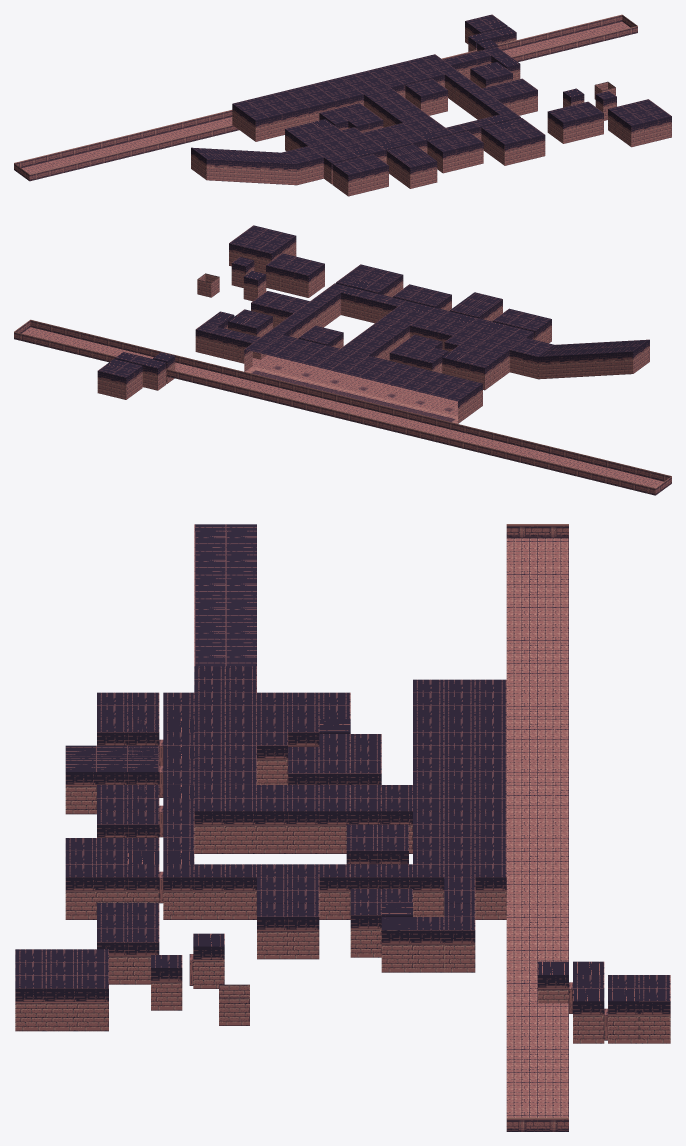
File: metro-test.fbx
The picture shows the model from 3 angles, top to bottom: view 1: azimuth 30°, elevation 25°; view 2: azimuth 150°, elevation 25°; view 3: azimuth 270°, elevation 25°; orthographic projection. The views are drawn at different scales.
Visible parts, largest first — view 1: main, base-half_1, base3x3, base3x2, controlroom, base3x2_1, base, door; view 2: main, base-half_1, controlroom, base3x2, base3x3, base3x2_1, door, base, base-half; view 3: main, base-half_1, base3x3, controlroom, base3x2, base3x2_1, door, base, door_1, base-half.
Part boxes in pixels (left/top/right/bottom): main: left=191, top=47, right=545, bottom=196; base-half_1: left=14, top=14, right=637, bottom=181; base3x3: left=608, top=99, right=671, bottom=147; base3x2: left=547, top=101, right=603, bottom=143; controlroom: left=465, top=14, right=516, bottom=51; base3x2_1: left=405, top=78, right=447, bottom=115; base: left=595, top=91, right=616, bottom=120; door: left=563, top=88, right=584, bottom=107; main: left=195, top=264, right=649, bottom=423; base-half_1: left=14, top=319, right=671, bottom=495; controlroom: left=97, top=352, right=166, bottom=399; base3x2: left=266, top=253, right=324, bottom=297; base3x3: left=229, top=225, right=296, bottom=273; base3x2_1: left=298, top=325, right=343, bottom=348; door: left=243, top=271, right=266, bottom=301; base: left=231, top=257, right=254, bottom=287; base-half: left=197, top=273, right=219, bottom=297; main: left=65, top=524, right=506, bottom=972; base-half_1: left=506, top=524, right=568, bottom=1131; base3x3: left=15, top=949, right=108, bottom=1031; controlroom: left=569, top=961, right=670, bottom=1043; base3x2: left=97, top=902, right=159, bottom=984; base3x2_1: left=346, top=824, right=408, bottom=864; door: left=189, top=933, right=224, bottom=988; base: left=151, top=955, right=182, bottom=1010; door_1: left=538, top=961, right=572, bottom=1013; base-half: left=219, top=984, right=249, bottom=1025.
Bounding box in the file's own units: 4500 × 441 × 2098.
2 materials, 2 textured.
